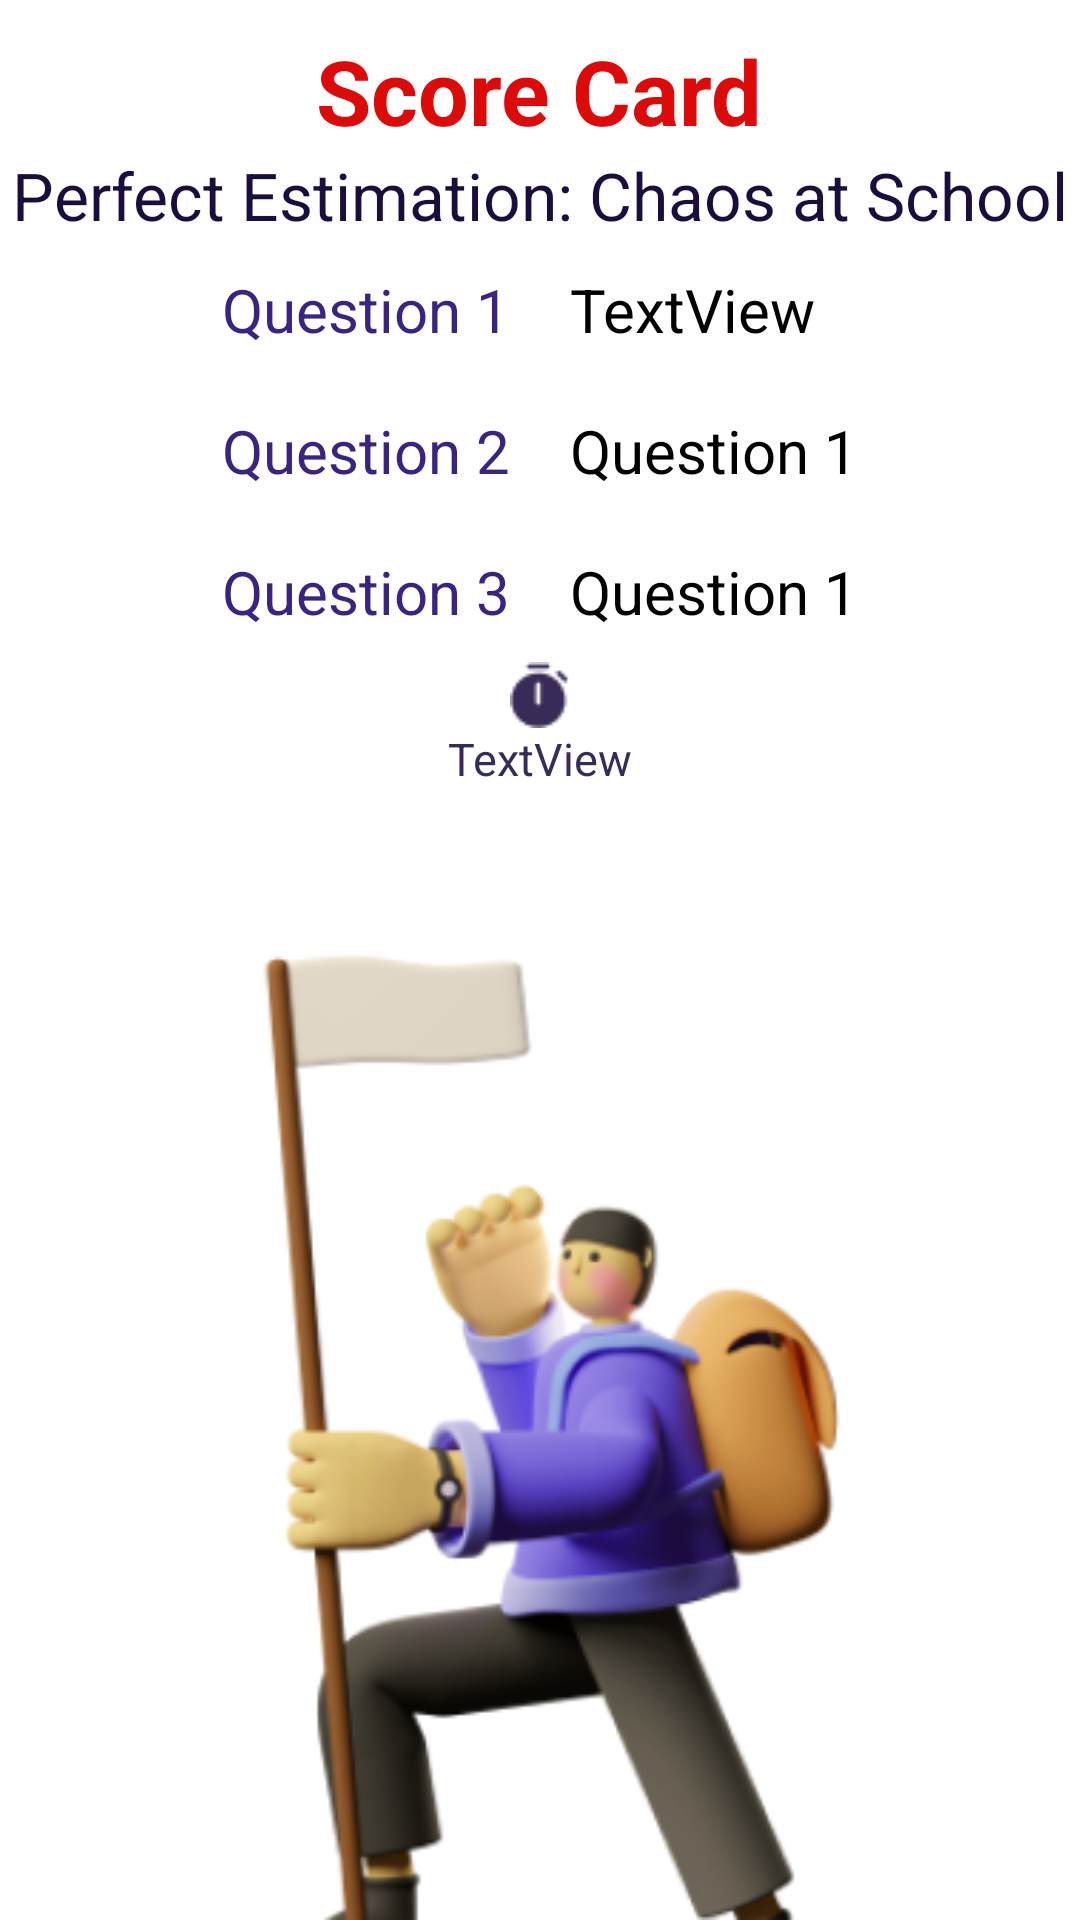

Named icons in this screenshot (1080px x 1920px) and their centers, (x,y):
time: (539,695)
